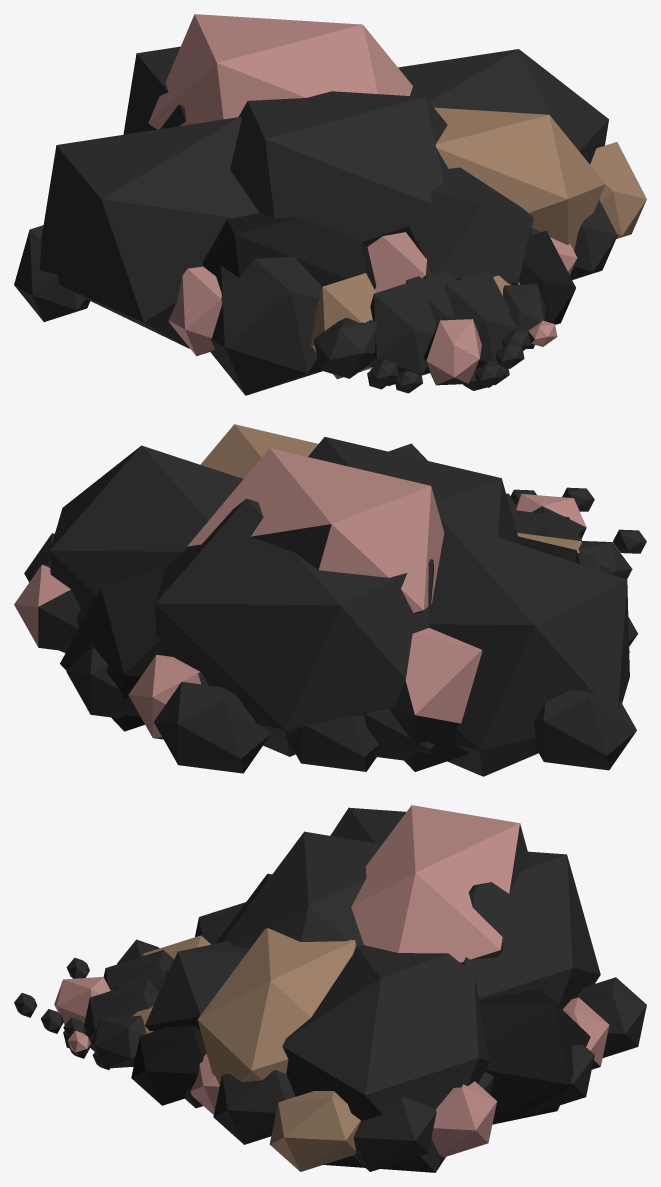
File: Iron_ore.fbx
3 renders of one model, top to bottom at view 1: azimuth 30°, elevation 25°; view 2: azimuth 150°, elevation 25°; view 3: azimuth 270°, elevation 25°, orthographic. The views are drawn at different scales.
Parts seen in each view (by area): view 1: Iron; view 2: Iron; view 3: Iron.
Boxes of the visible parts, x1,y1,x2,y2 form: Iron: [14, 14, 646, 395]; Iron: [14, 424, 646, 776]; Iron: [14, 805, 646, 1172].
Bounding box in the file's own units: 574 × 262 × 591.
